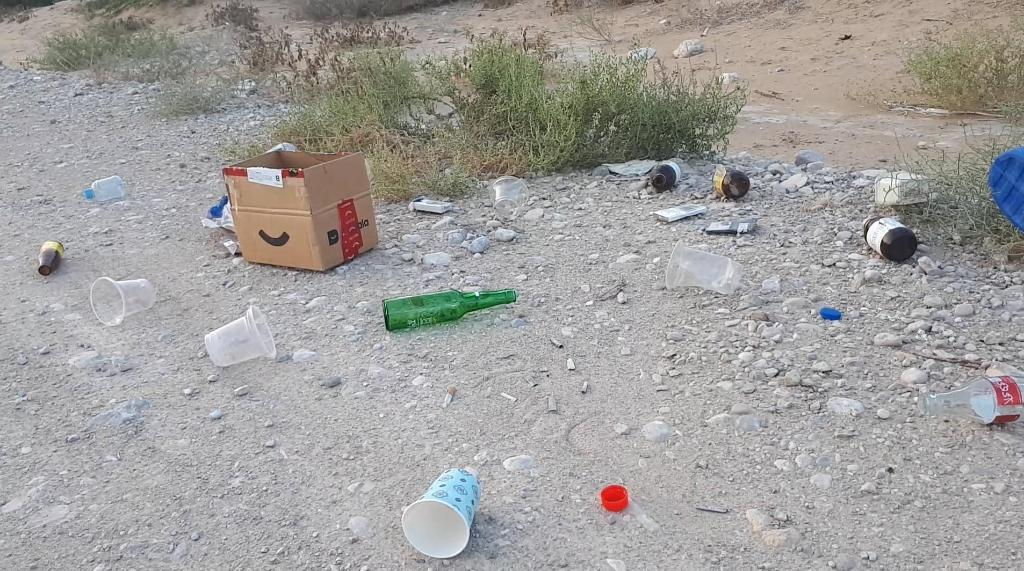garbage: (208, 144, 413, 287), (391, 455, 505, 564), (885, 360, 1024, 449), (363, 283, 526, 338), (81, 275, 180, 336), (382, 289, 516, 331), (917, 373, 1023, 424), (850, 211, 930, 273), (989, 145, 1023, 232), (862, 216, 917, 262), (708, 158, 758, 208), (28, 233, 74, 283), (639, 157, 687, 195), (83, 174, 135, 209), (712, 165, 749, 199), (650, 160, 682, 192), (83, 176, 125, 200), (38, 240, 64, 276)
